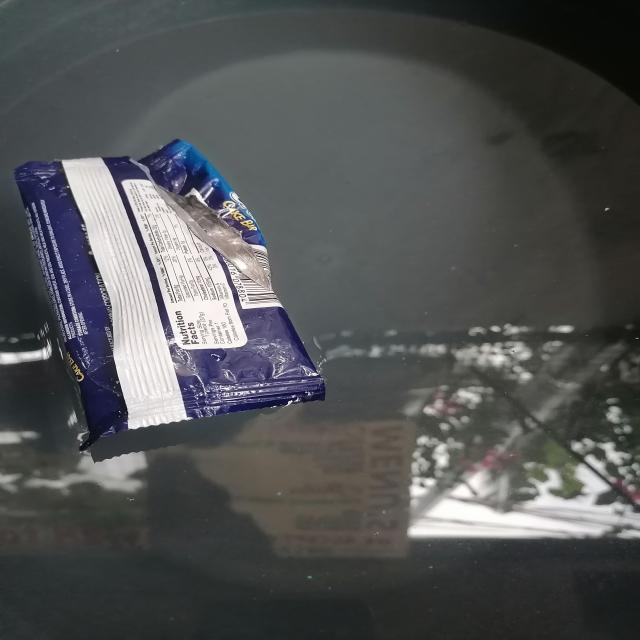Plastic Wrapper: (0, 120, 348, 467)
